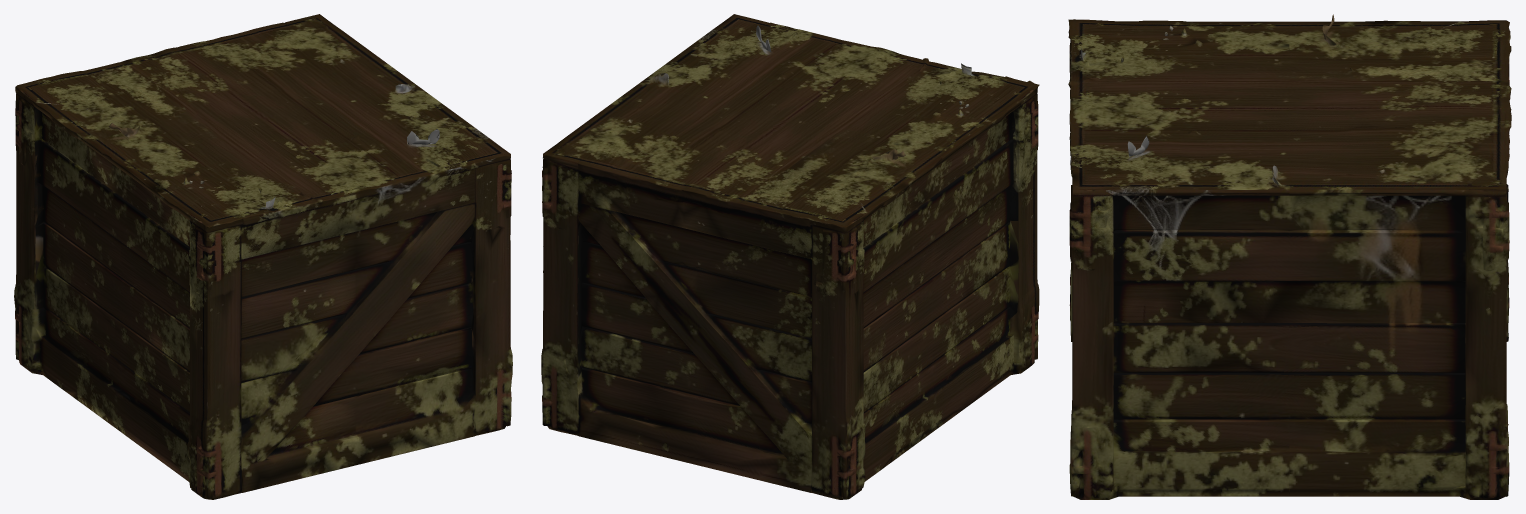
Rendered from caja.fbx.
3 renders of one model, left to right at view 1: azimuth 30°, elevation 25°; view 2: azimuth 150°, elevation 25°; view 3: azimuth 270°, elevation 25°, orthographic. The views are drawn at different scales.
Parts seen in each view (by area): view 1: tripo_node_4238e40d; view 2: tripo_node_4238e40d; view 3: tripo_node_4238e40d.
Part boxes in pixels (box(x1,y1,x2,y2)): tripo_node_4238e40d: box(14, 14, 512, 499); tripo_node_4238e40d: box(541, 14, 1039, 499); tripo_node_4238e40d: box(1068, 14, 1511, 499).
Bounding box in the file's own units: 0.9193 × 0.8254 × 1.
1 material, 1 textured.
